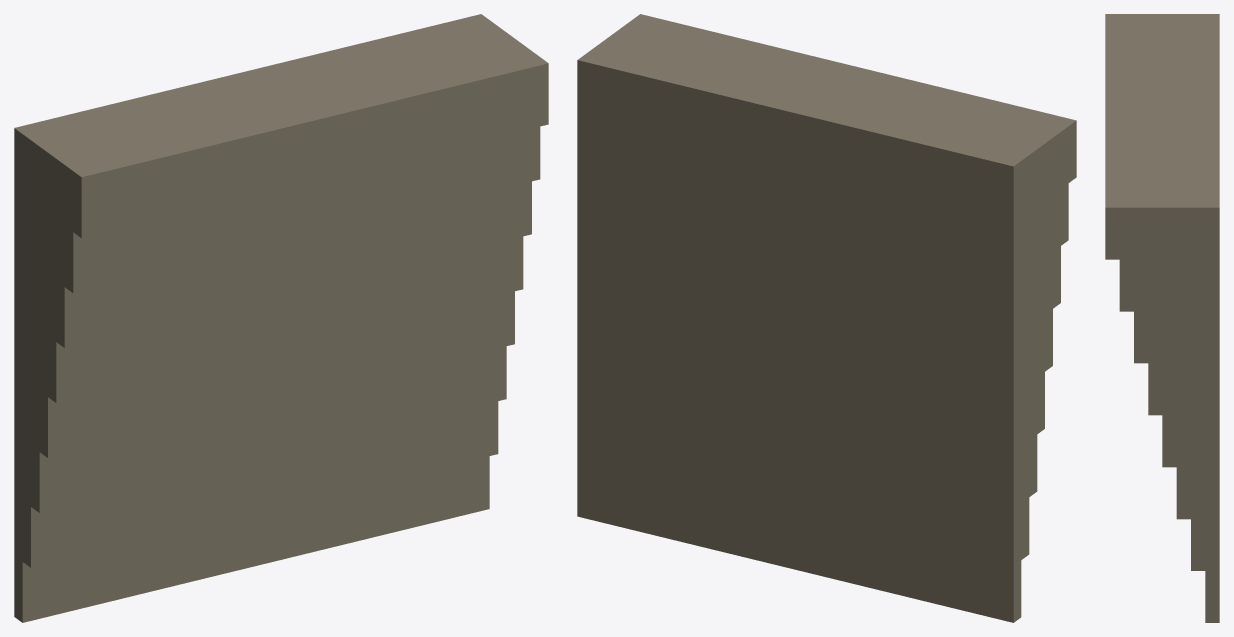
Rendered from SM_AEON_Stairs_4m_Rise1m.obj.
3 views of the same model, side by side, from view 1: azimuth 30°, elevation 25°; view 2: azimuth 150°, elevation 25°; view 3: azimuth 270°, elevation 25° (orthographic). The views are drawn at different scales.
Parts seen in each view (by area): view 1: SM_AEON_Stairs_4m_Rise1m; view 2: SM_AEON_Stairs_4m_Rise1m; view 3: SM_AEON_Stairs_4m_Rise1m.
Part boxes in pixels (bbox=[...]): SM_AEON_Stairs_4m_Rise1m: bbox=[14, 14, 548, 622]; SM_AEON_Stairs_4m_Rise1m: bbox=[577, 14, 1076, 622]; SM_AEON_Stairs_4m_Rise1m: bbox=[1105, 14, 1219, 622].
Size of the model in its own units: 400 by 400 by 100.
